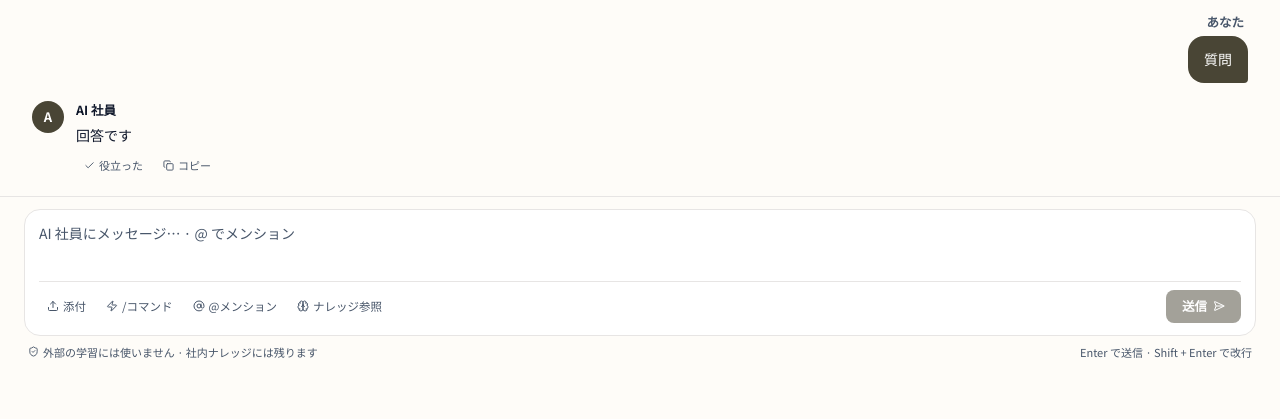
S-E01 メッセージフィードバック (GAP-031 ① 役立った) › フィードバック失敗時は inline error を表示する
What coordinates should you click on to do the following:
click the button with aria-label "フィードバック: 役立った"
I would click on:
 (114, 165)
Its box is top-left (76, 154), bottom-right (151, 176).
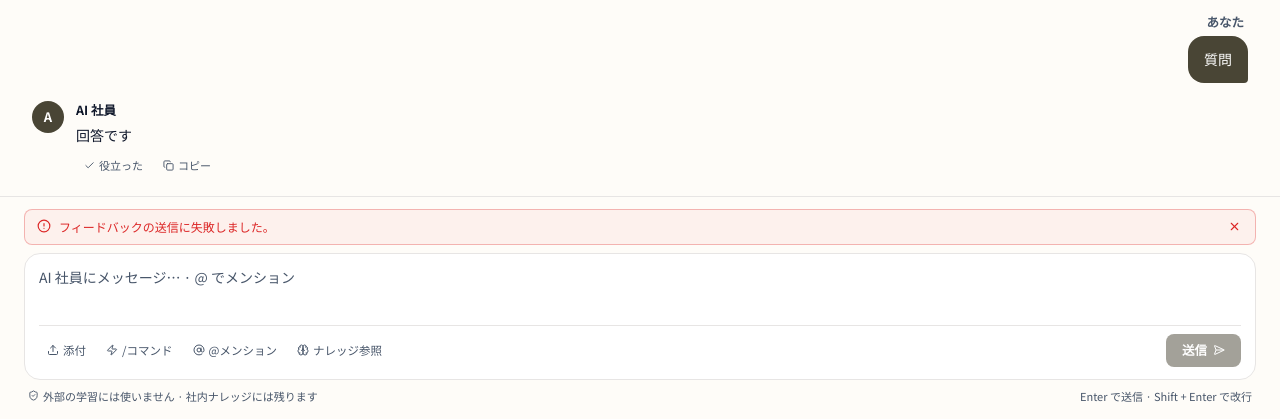
Expected: the message shows "フィードバックの送信に失敗しました", top-left (59, 218), bottom-right (275, 235)
